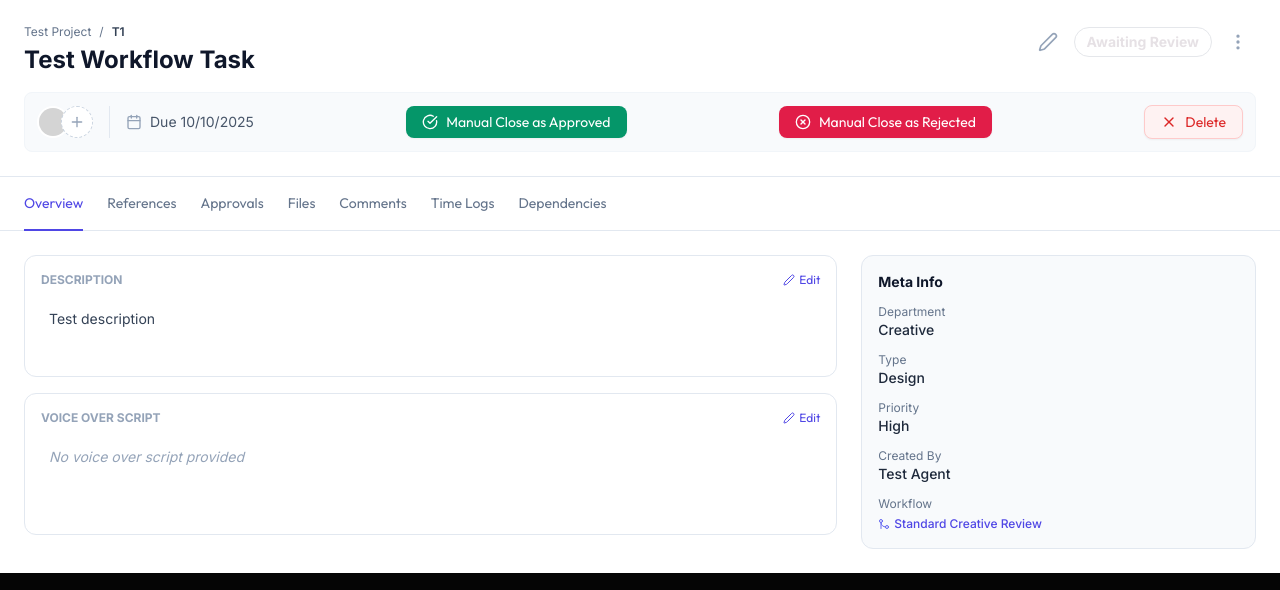
Workflow System Integration › should display "Approve" button for the current approver
The width and height of the screenshot is (1280, 590).
Switch to Approvals Tab
Click the button "approvals".
click(232, 204)  # box [200,177,264,231]
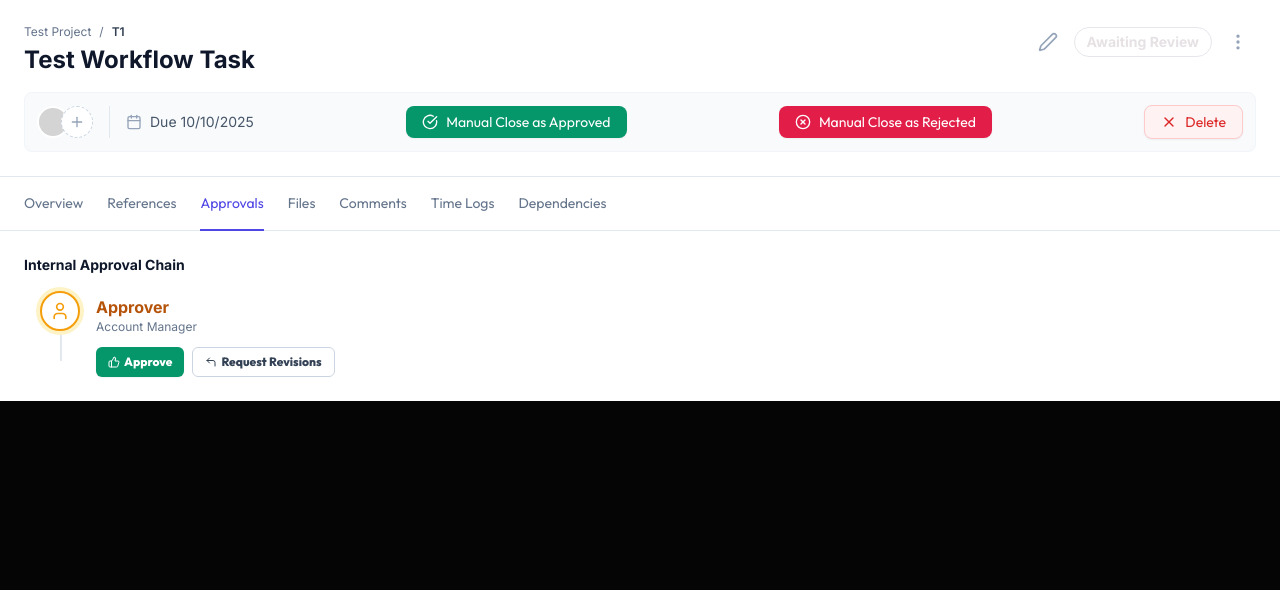
Expected: the button "Approve" is shown, [96,347,184,377]
